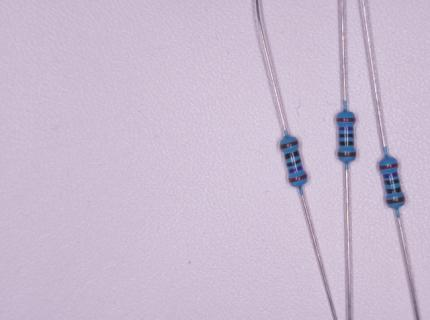Red band: (288, 174, 308, 183), (379, 163, 398, 171), (336, 117, 356, 122)
Violet band: (288, 165, 303, 174), (383, 171, 398, 179), (339, 127, 354, 131)
